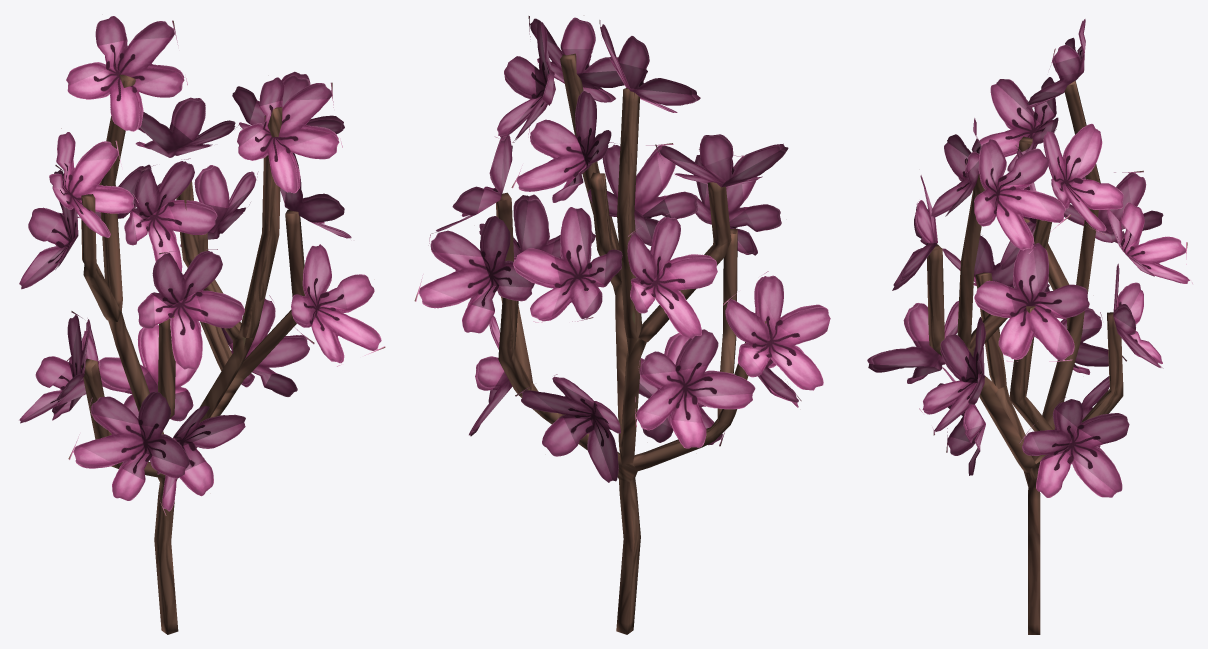
File: HealthSakura.fbx
The picture shows the model from 3 angles, left to right: view 1: azimuth 30°, elevation 25°; view 2: azimuth 150°, elevation 25°; view 3: azimuth 270°, elevation 25°; orthographic projection. The views are drawn at different scales.
Visible parts, largest first — view 1: Cube.001; view 2: Cube.001; view 3: Cube.001.
Boxes of the visible parts, <box> form: Cube.001: <box>19,16,385,634</box>; Cube.001: <box>414,16,830,634</box>; Cube.001: <box>867,19,1192,634</box>.
Bounding box in the file's own units: 264 × 437 × 219.
